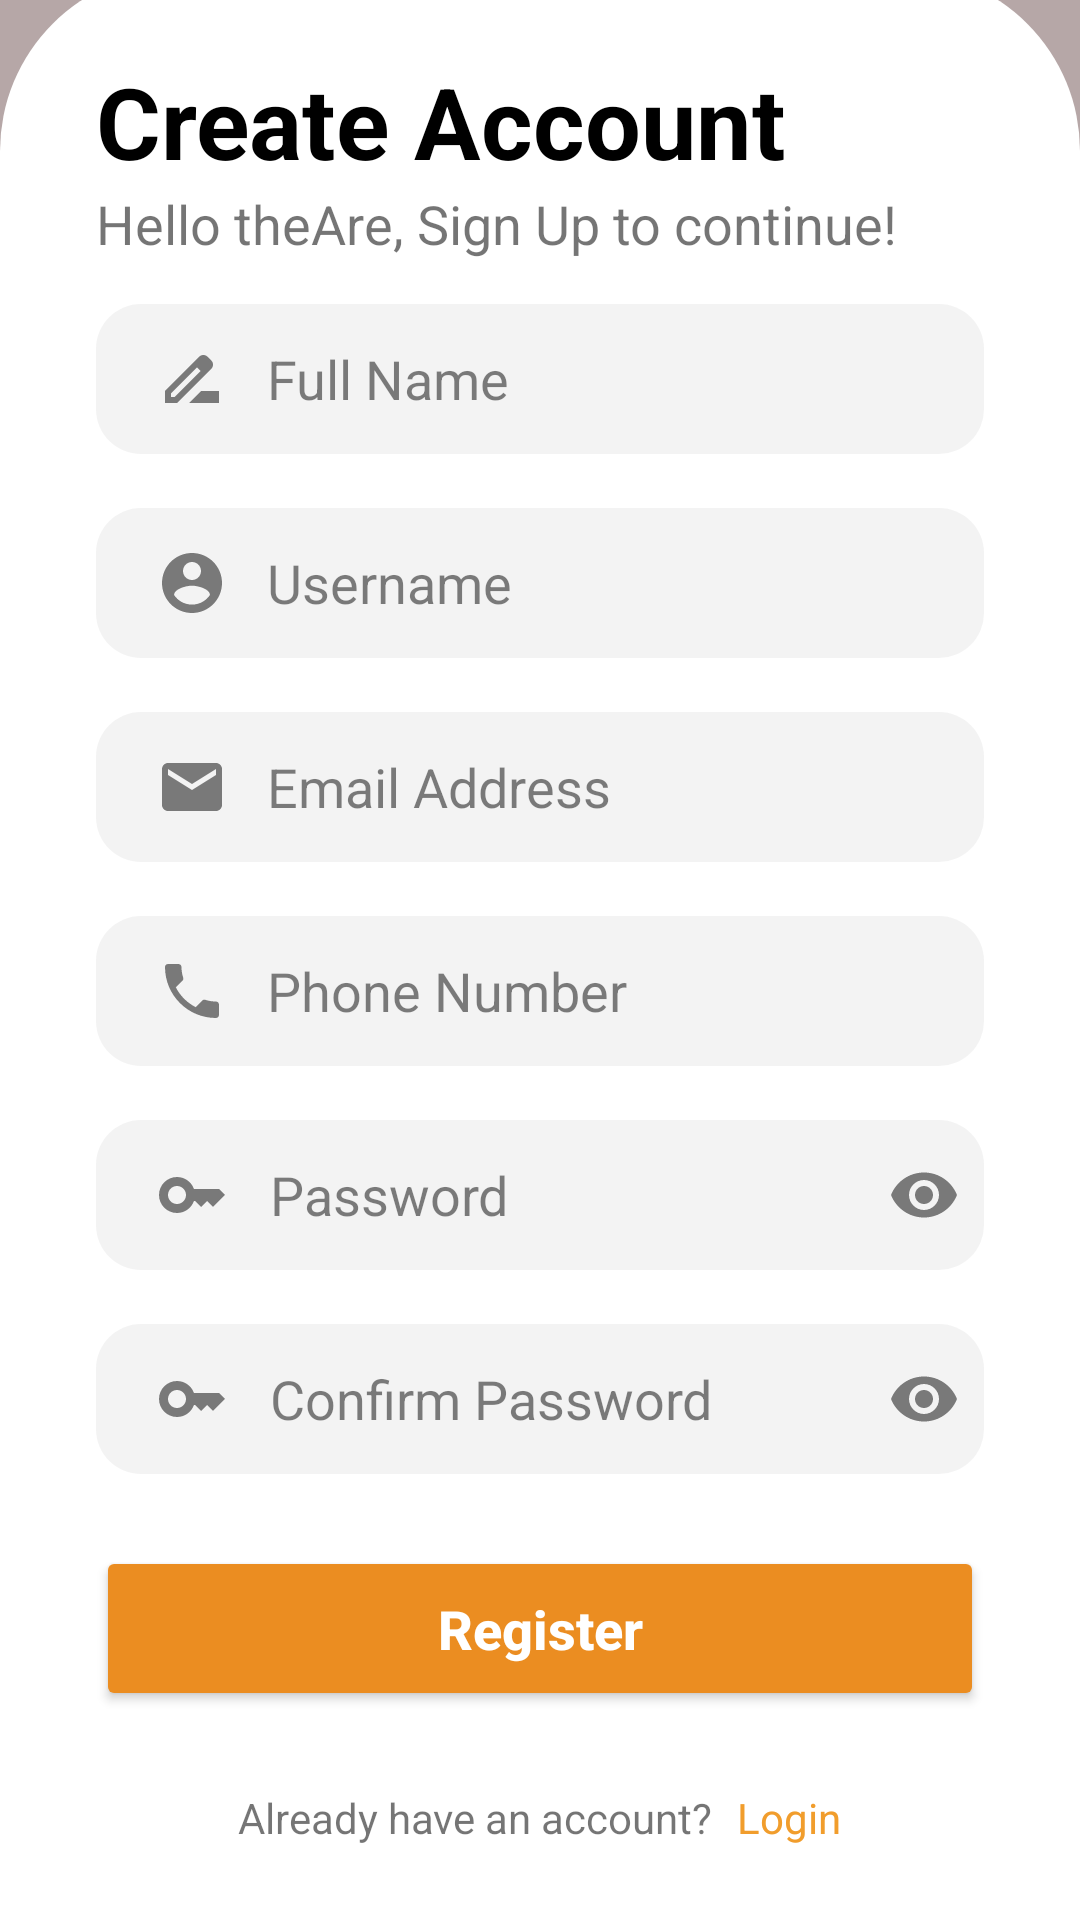

Locate icon controls on the screen. Image size 1080×1920, boxes as (x1, y1, x2, y2).
key: (159, 1177, 225, 1213), (159, 1381, 225, 1417)
